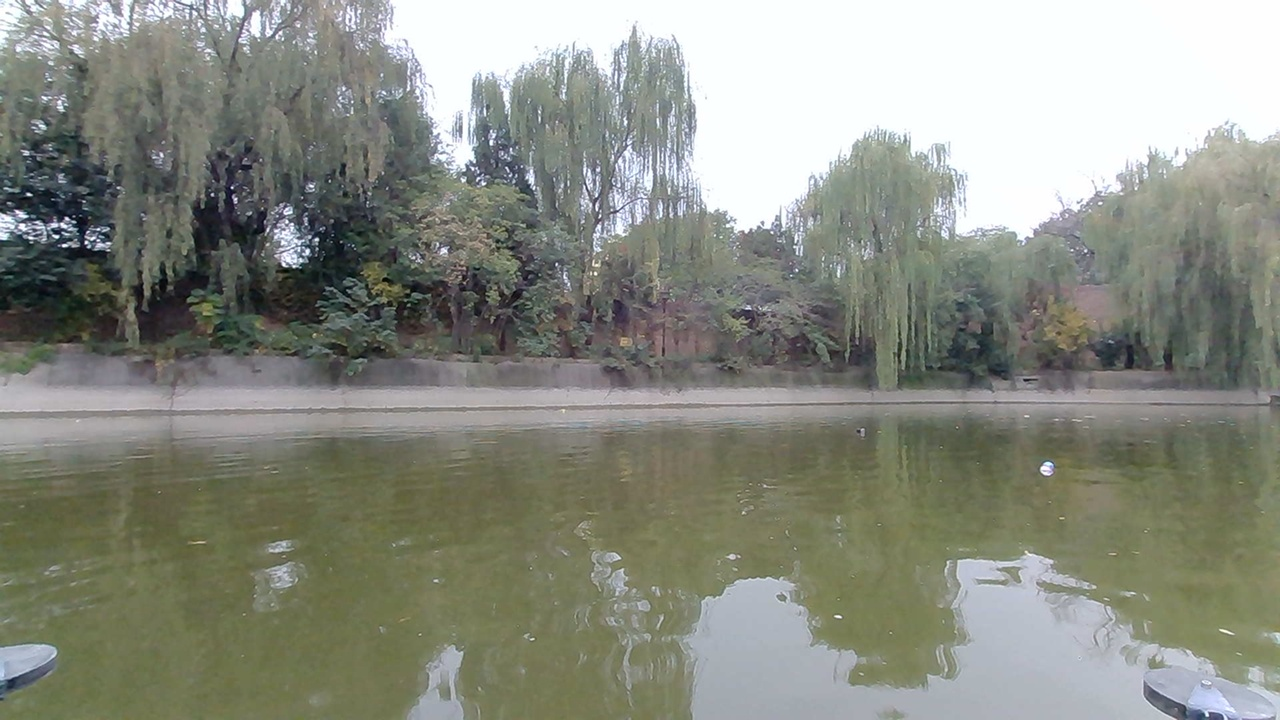bottle: (1021, 452, 1060, 481), (843, 418, 871, 444)
